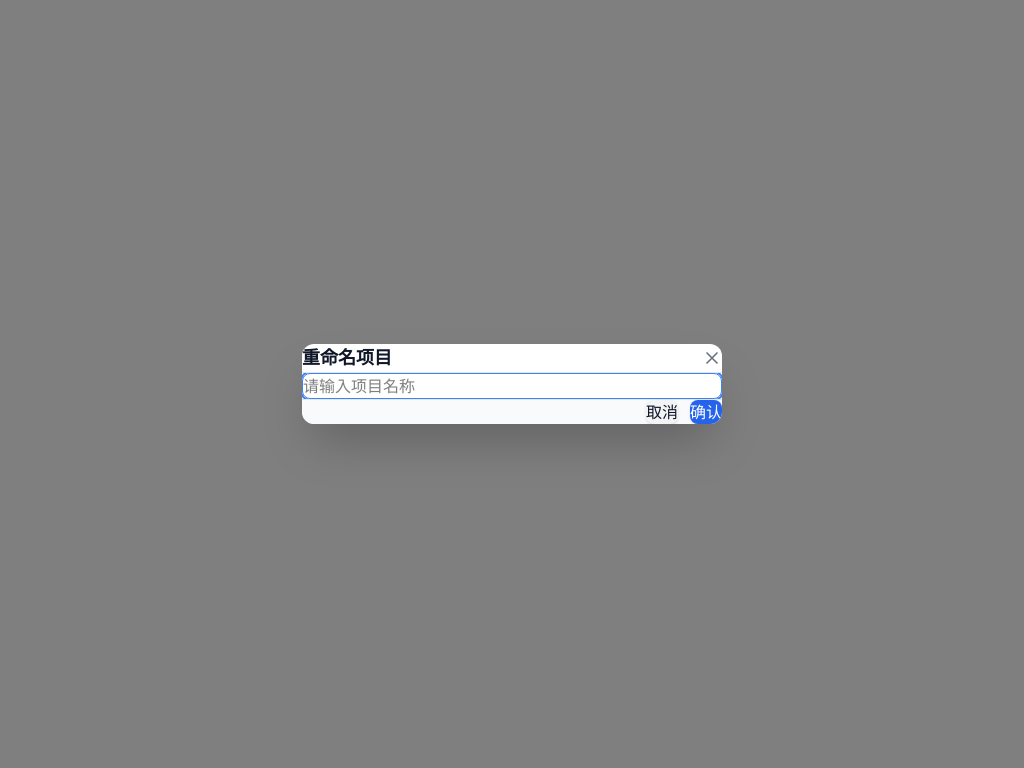
Test: Bug Fix Regression Tests › InputModal - 边界场景处理 › 应该在 validate 函数抛出异常时捕获并显示错误
The image size is (1024, 768).
Click the button "确认": (706, 412) x1=690 y1=400 x2=722 y2=424
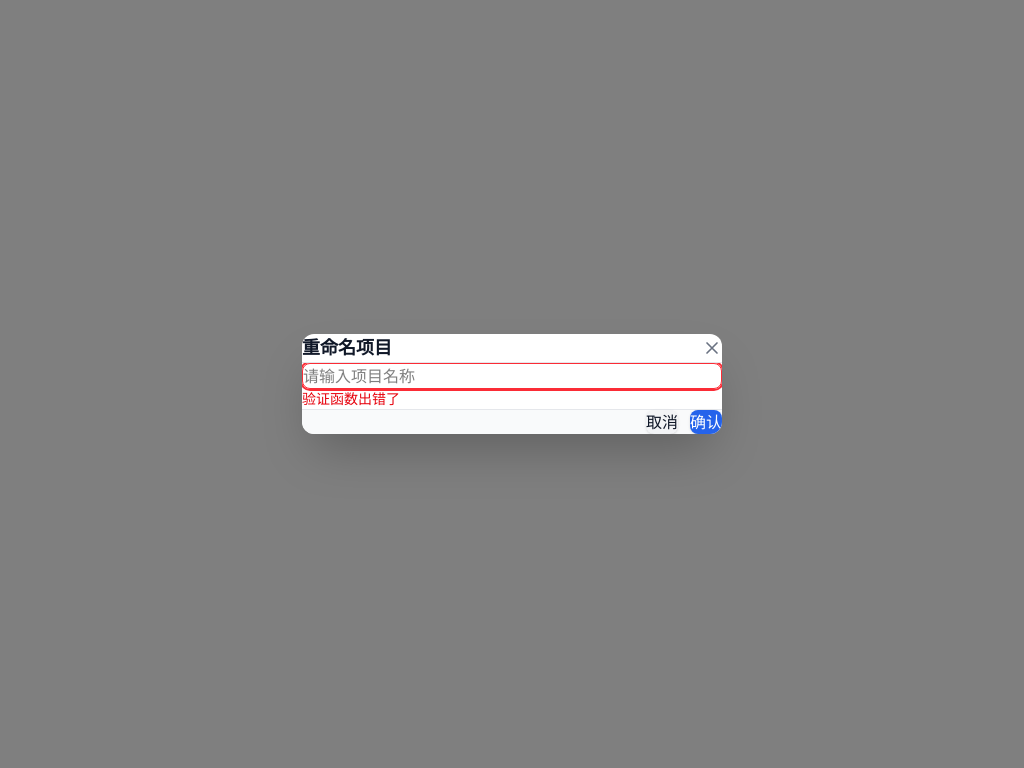
expect the text "验证函数出错了" is shown: met, box x1=302 y1=390 x2=400 y2=407
